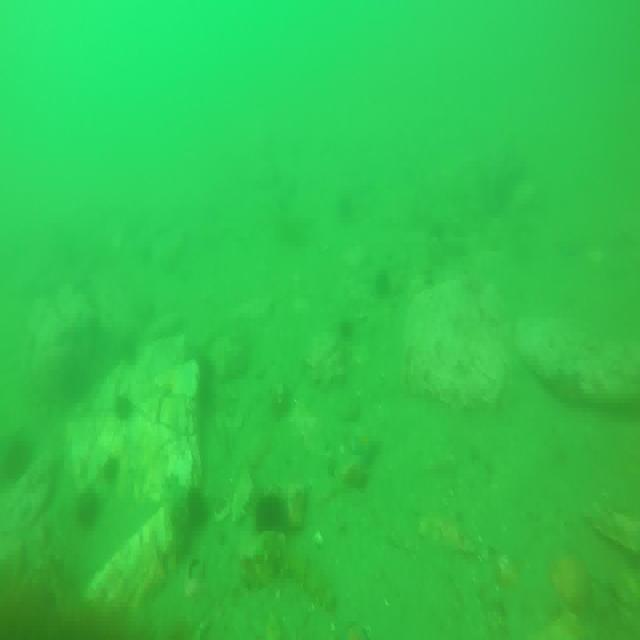echinus: (0, 432, 31, 490), (259, 488, 287, 533), (76, 484, 102, 529), (100, 454, 120, 489), (115, 392, 134, 418), (372, 269, 389, 298), (338, 322, 356, 346)
holothurian: (266, 536, 336, 609)
